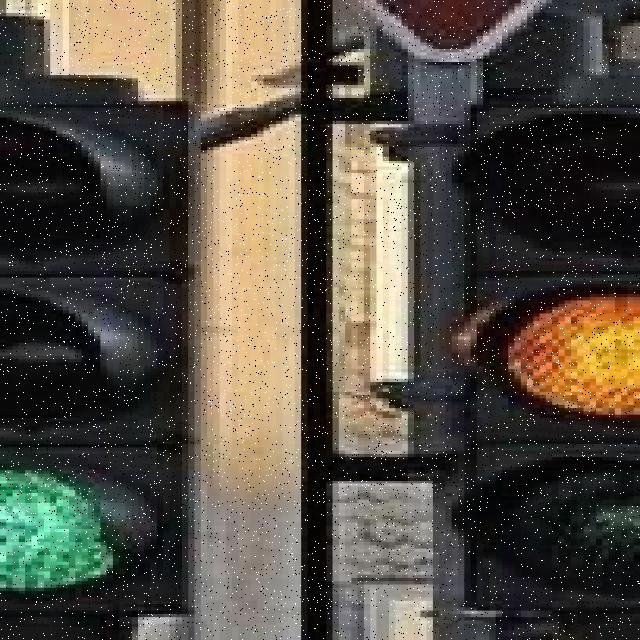Zolte swiatlo: (464, 104, 640, 614)
